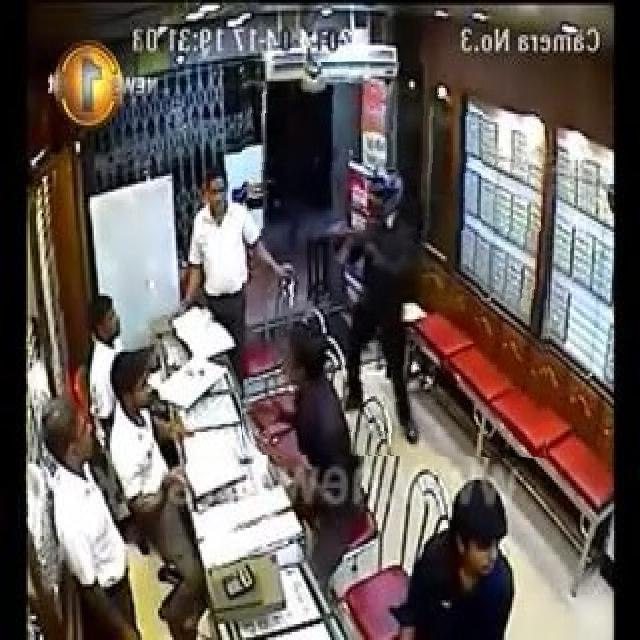Shoplifting: (242, 62, 552, 457)
